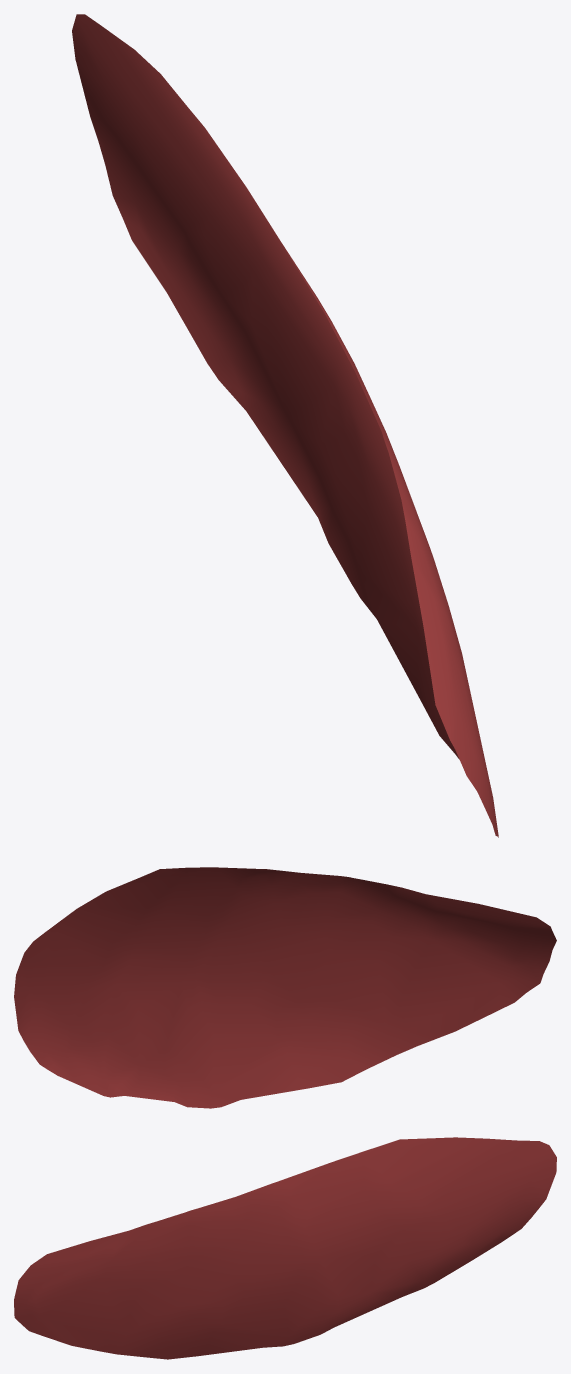
The model's file is serratus-anterior-muscle-e3l.glb.
3 views of the same model, one above another, from view 1: azimuth 30°, elevation 25°; view 2: azimuth 150°, elevation 25°; view 3: azimuth 270°, elevation 25° (orthographic). The views are drawn at different scales.
Visible parts, largest first — view 1: Serratus anterior muscle.e3l; view 2: Serratus anterior muscle.e3l; view 3: Serratus anterior muscle.e3l.
Part boxes in pixels (x1,y1,x2,y2): Serratus anterior muscle.e3l: (72, 14, 498, 837); Serratus anterior muscle.e3l: (14, 867, 556, 1108); Serratus anterior muscle.e3l: (14, 1137, 556, 1359).
Size of the model in its own units: 0.00874 by 0.021 by 0.0461.
